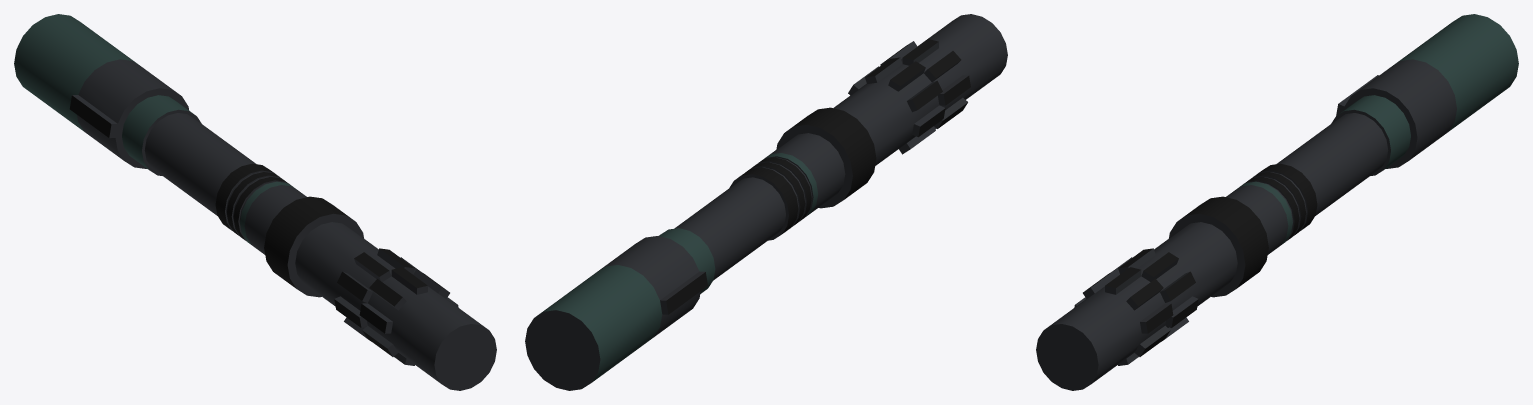
Rendered from Premier tuyau.FBX.
3 renders of one model, left to right at view 1: azimuth 30°, elevation 25°; view 2: azimuth 150°, elevation 25°; view 3: azimuth 330°, elevation 25°, orthographic.
Visible parts, largest first — view 1: Gros tuyau sur le mur; view 2: Gros tuyau sur le mur; view 3: Gros tuyau sur le mur.
Boxes of the visible parts, x1,y1,x2,y2 form: Gros tuyau sur le mur: (14,14,496,390); Gros tuyau sur le mur: (525,14,1007,390); Gros tuyau sur le mur: (1036,14,1518,390).
Size of the model in its own units: 131 by 122 by 1136.
